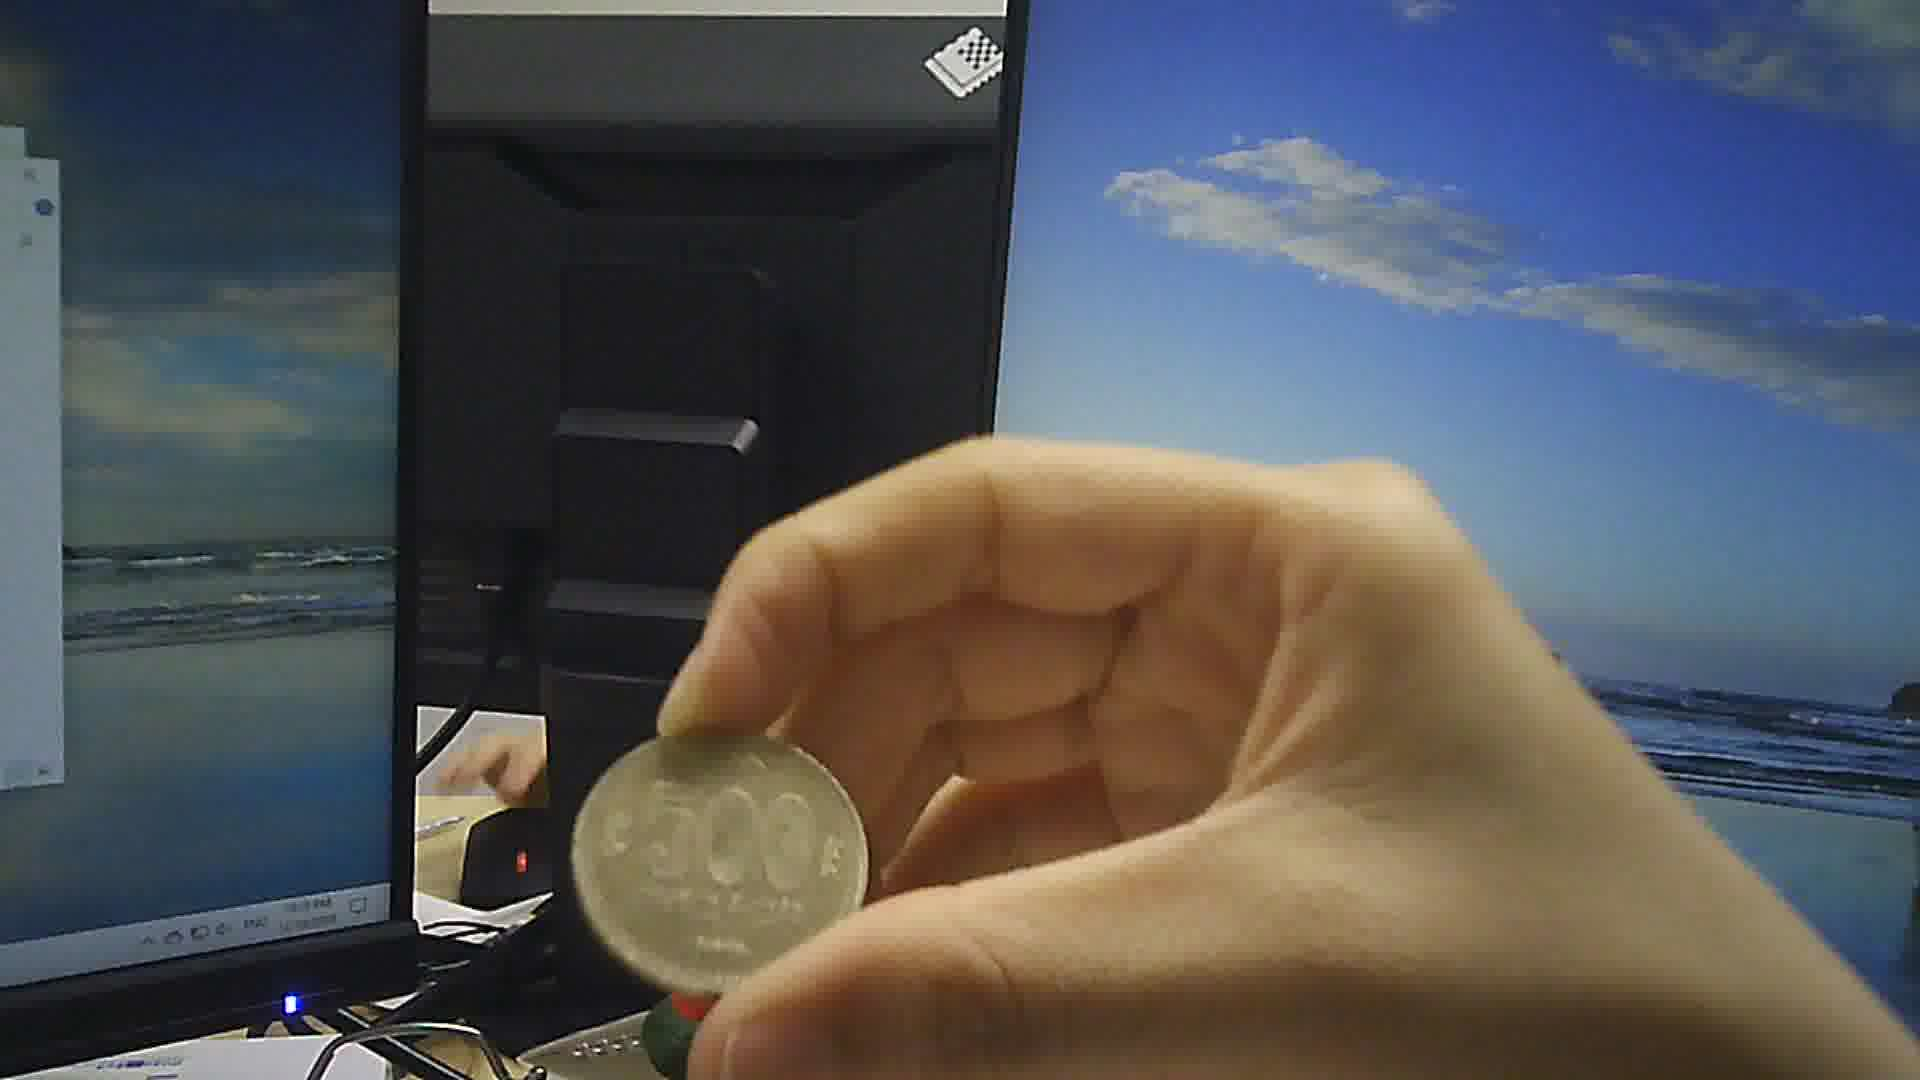500 Yen: (567, 727, 872, 993)
